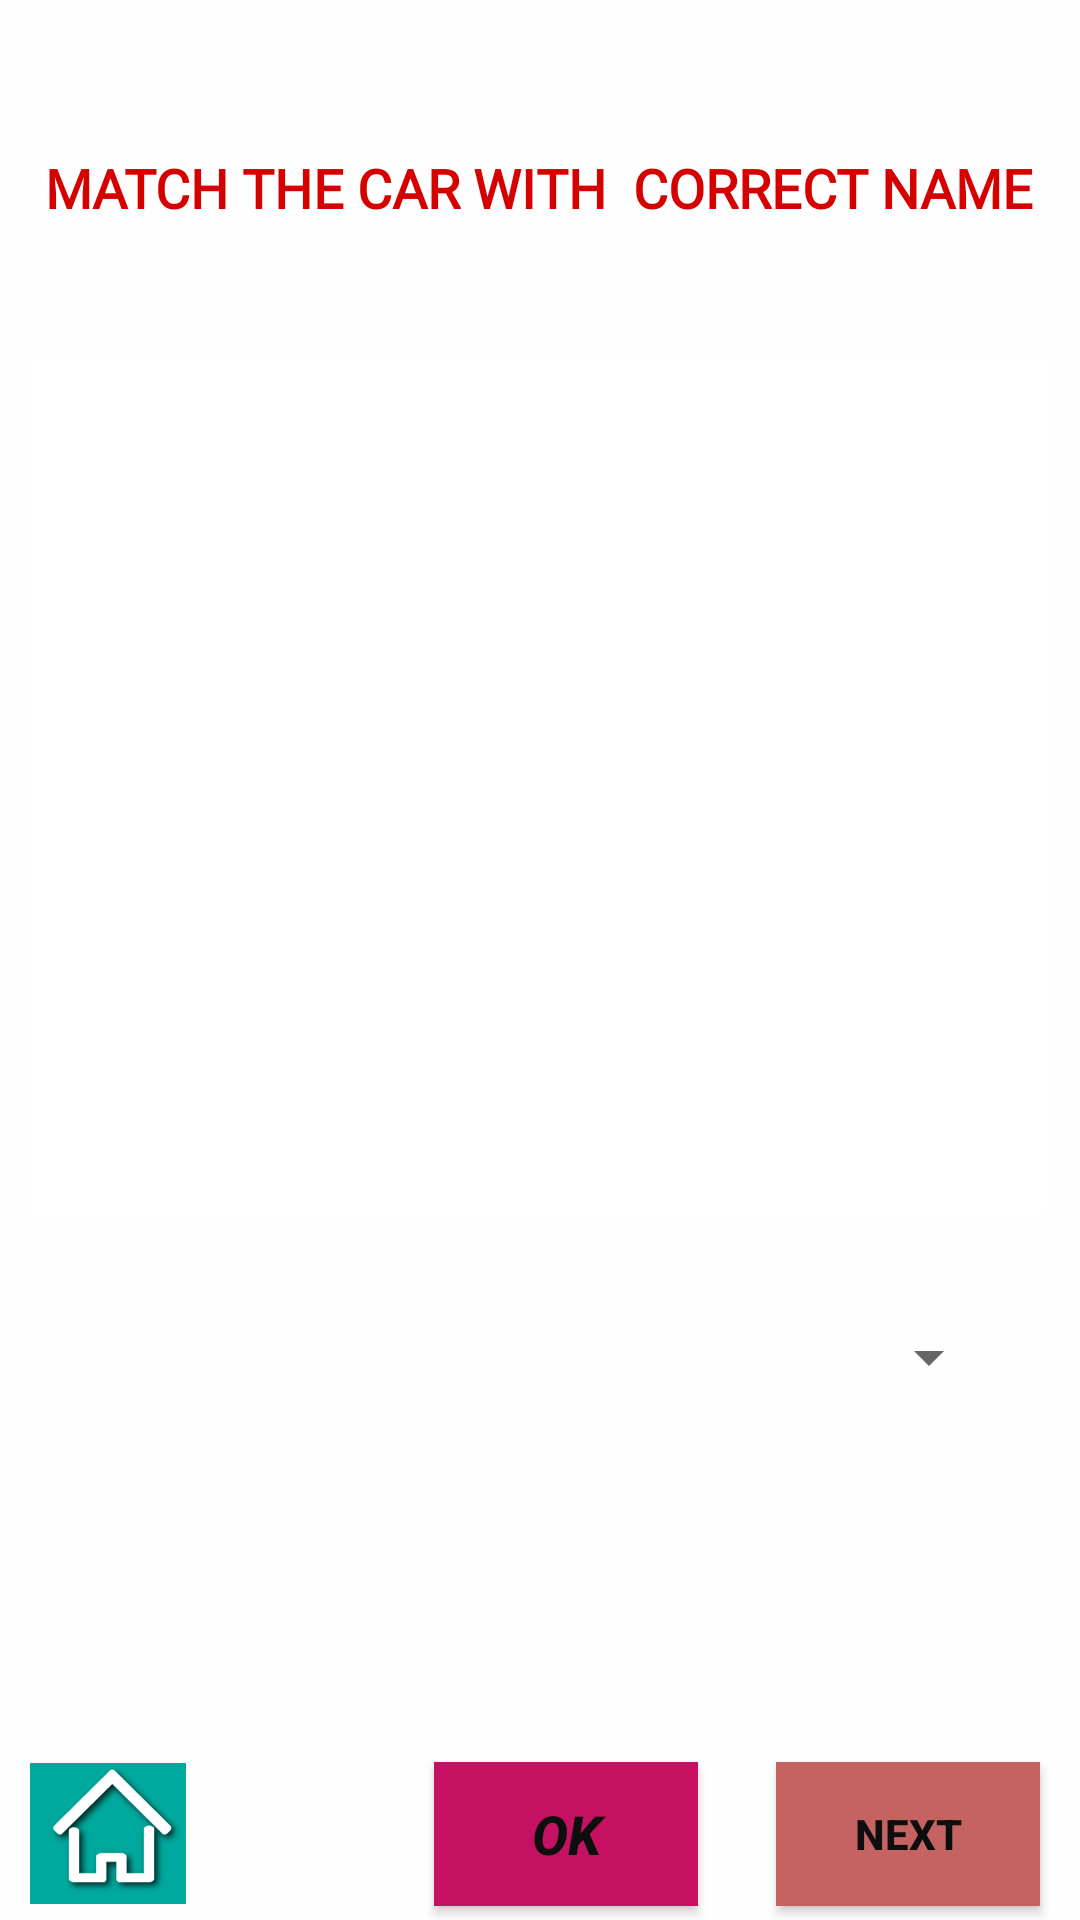

Named icons in this screenshot (1080 × 1920) and their centers, (x,y):
home: (108,1833)
